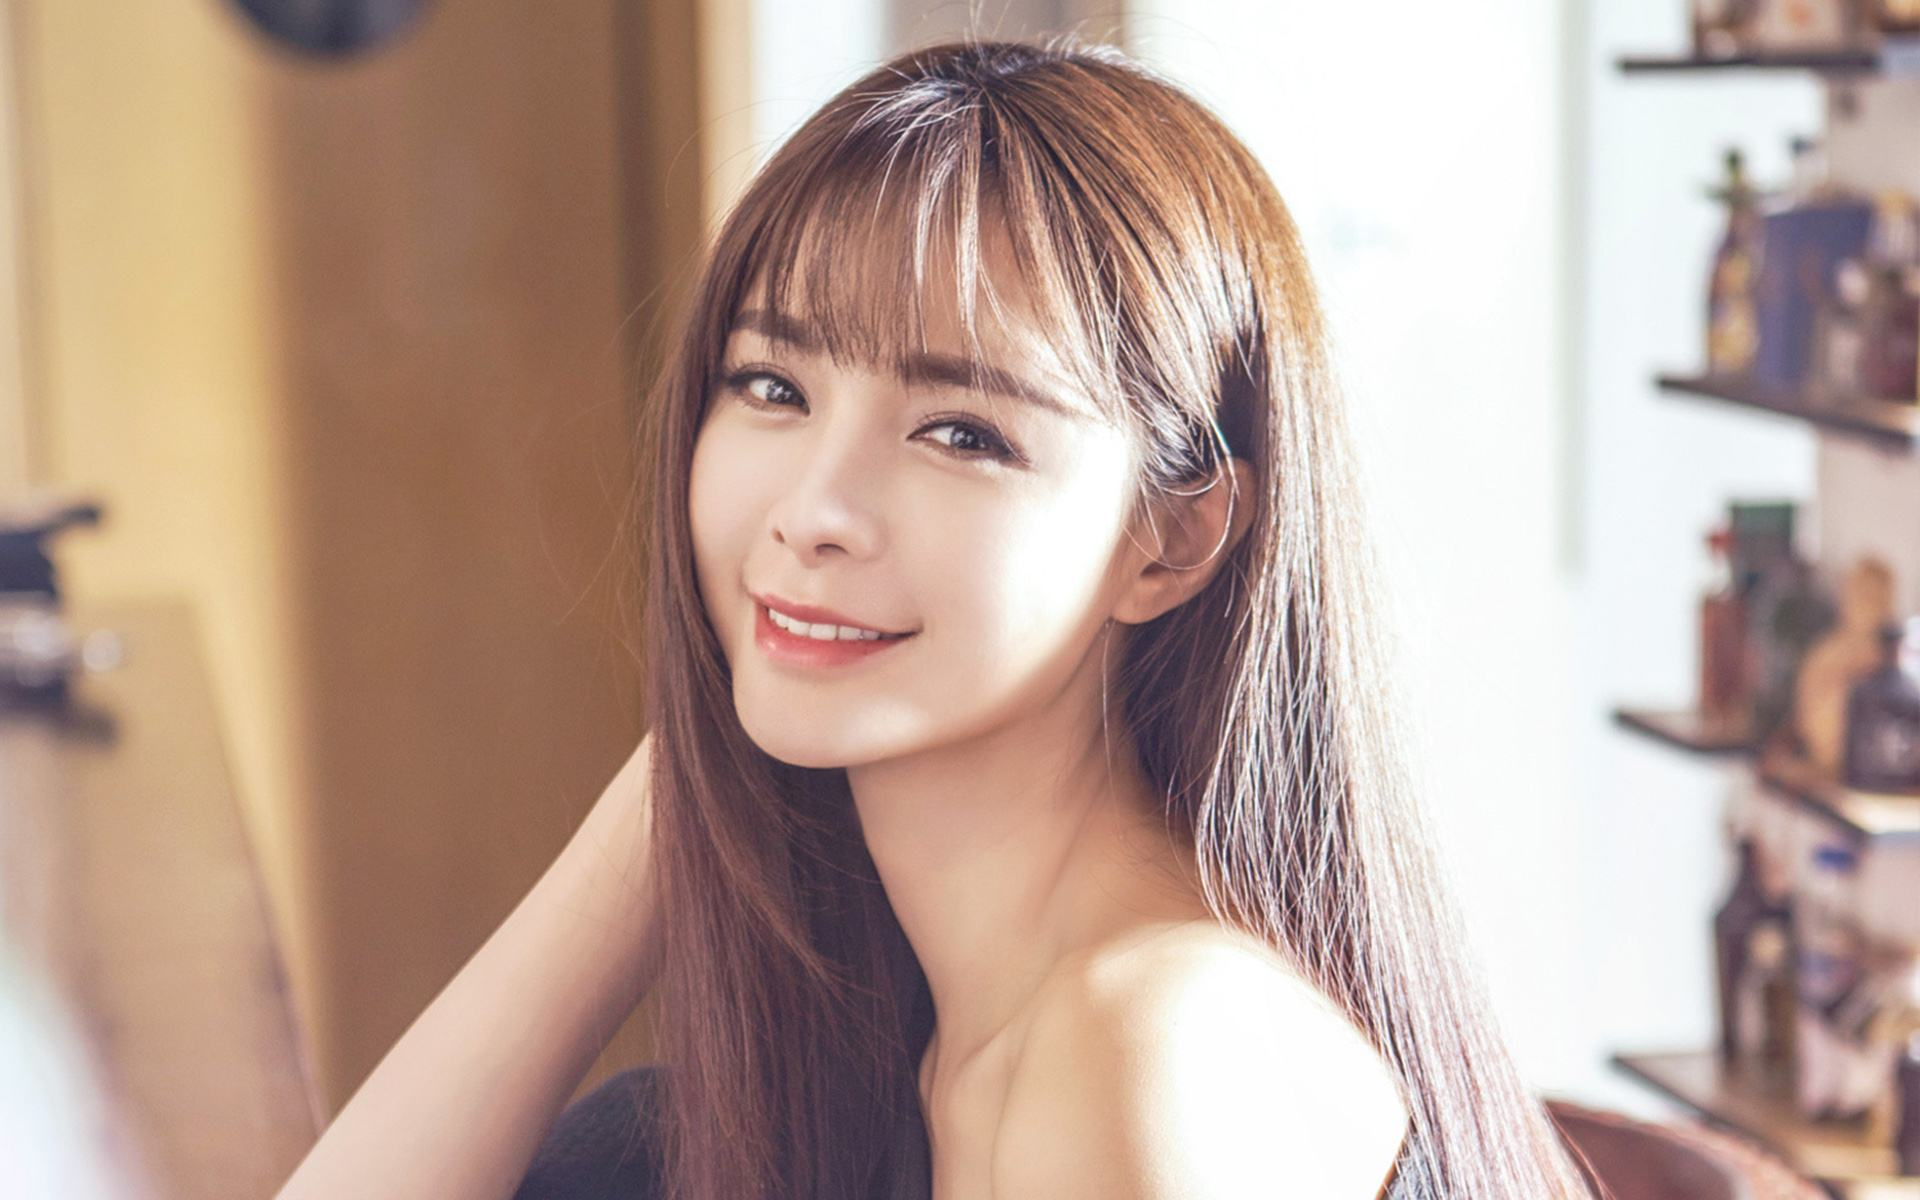person: (563, 72, 1741, 1200)
